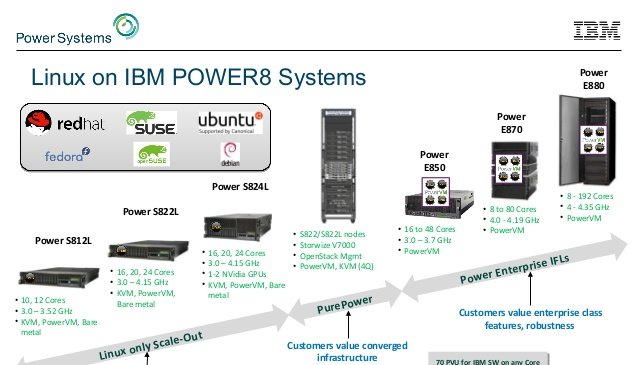ibm-server: (551, 89, 627, 190), (308, 102, 363, 230), (486, 134, 543, 202), (198, 209, 282, 245), (12, 261, 104, 293), (400, 184, 477, 222), (101, 236, 193, 265)
